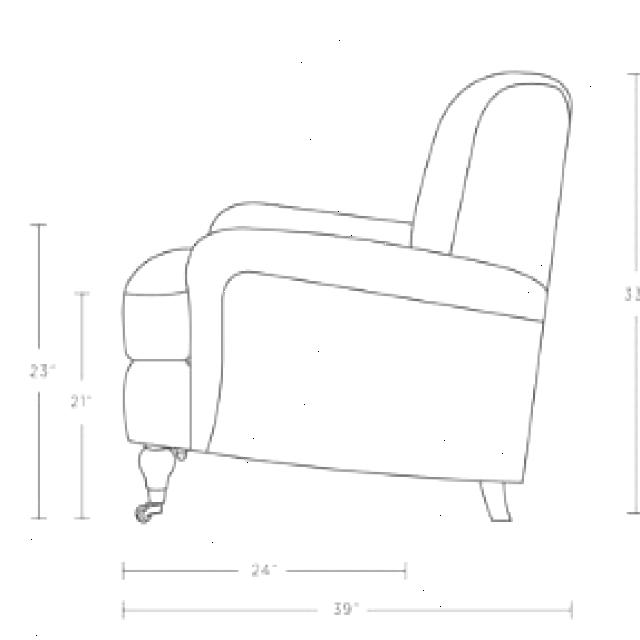Backrest: (405, 65, 577, 293)
Leg_Structure: (129, 441, 517, 532)
Seat: (119, 242, 195, 456)
sofa_armrest: (181, 225, 552, 488)
